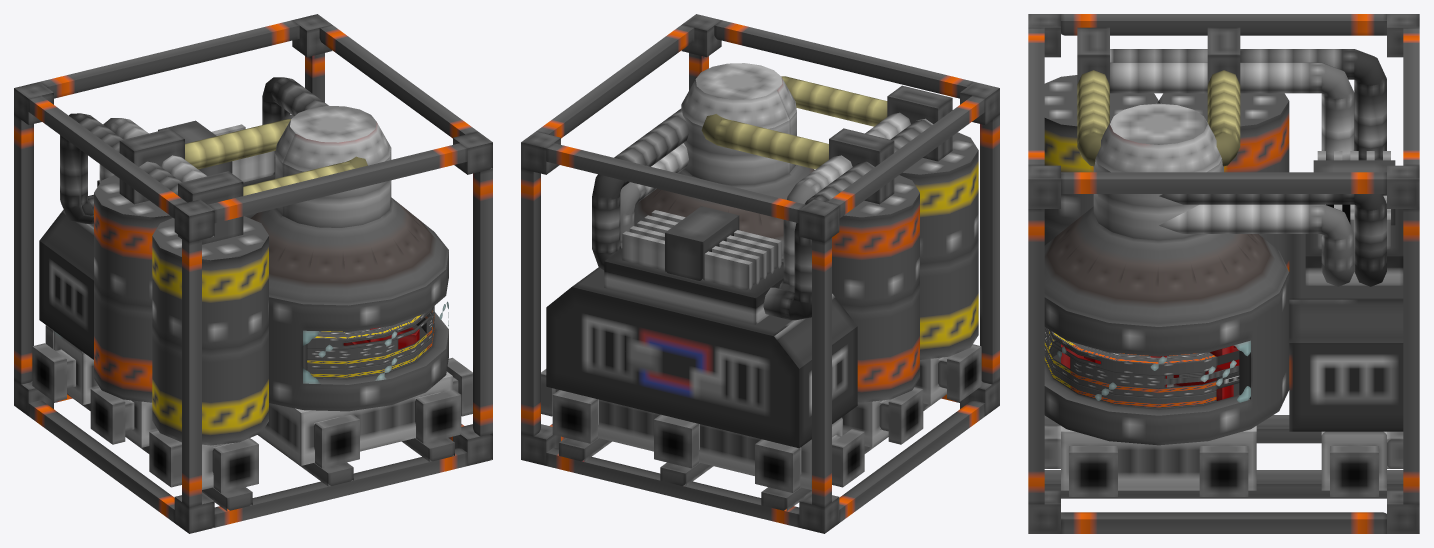
The model's file is chemical_plant.obj.
3 views of the same model, side by side, from view 1: azimuth 30°, elevation 25°; view 2: azimuth 150°, elevation 25°; view 3: azimuth 270°, elevation 25° (orthographic). The views are drawn at different scales.
Visible parts, largest first — view 1: Base, Frame, Fluid, Slider; view 2: Base, Frame, Slider; view 3: Base, Frame, Fluid, Slider, Spinner.
Part boxes in pixels (left/top/right/bottom): Base: left=14, top=77, right=492, bottom=533; Frame: left=14, top=14, right=492, bottom=507; Fluid: left=307, top=306, right=434, bottom=378; Slider: left=158, top=120, right=232, bottom=176; Base: left=521, top=63, right=999, bottom=533; Frame: left=521, top=14, right=999, bottom=507; Slider: left=665, top=206, right=739, bottom=280; Base: left=1028, top=27, right=1419, bottom=533; Frame: left=1028, top=14, right=1419, bottom=504; Fluid: left=1044, top=327, right=1239, bottom=408; Slider: left=1313, top=160, right=1395, bottom=225; Spinner: left=1061, top=344, right=1239, bottom=400.
Bounding box in the file's own units: 3 × 3 × 3.
